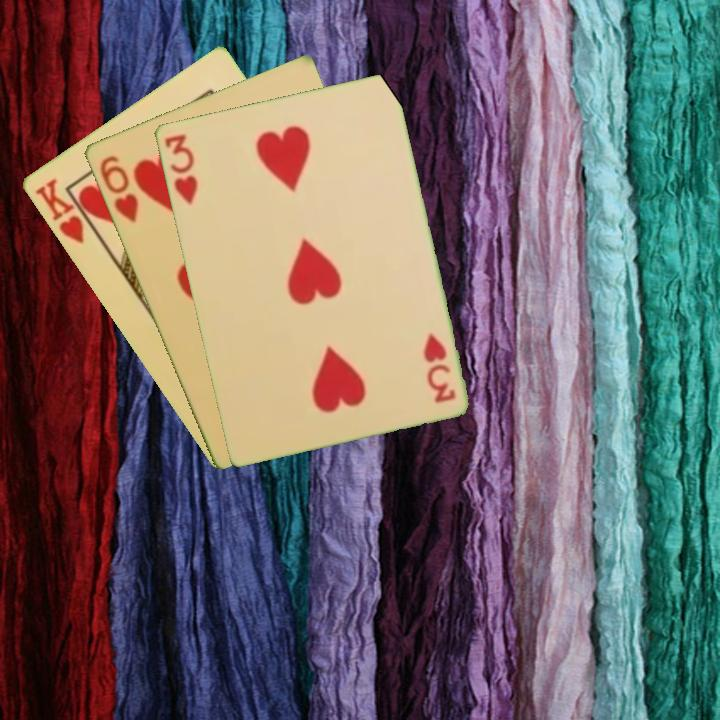3h: (160, 130, 200, 207), (419, 329, 458, 406)
6h: (95, 151, 141, 226)
Kh: (30, 174, 100, 247)
